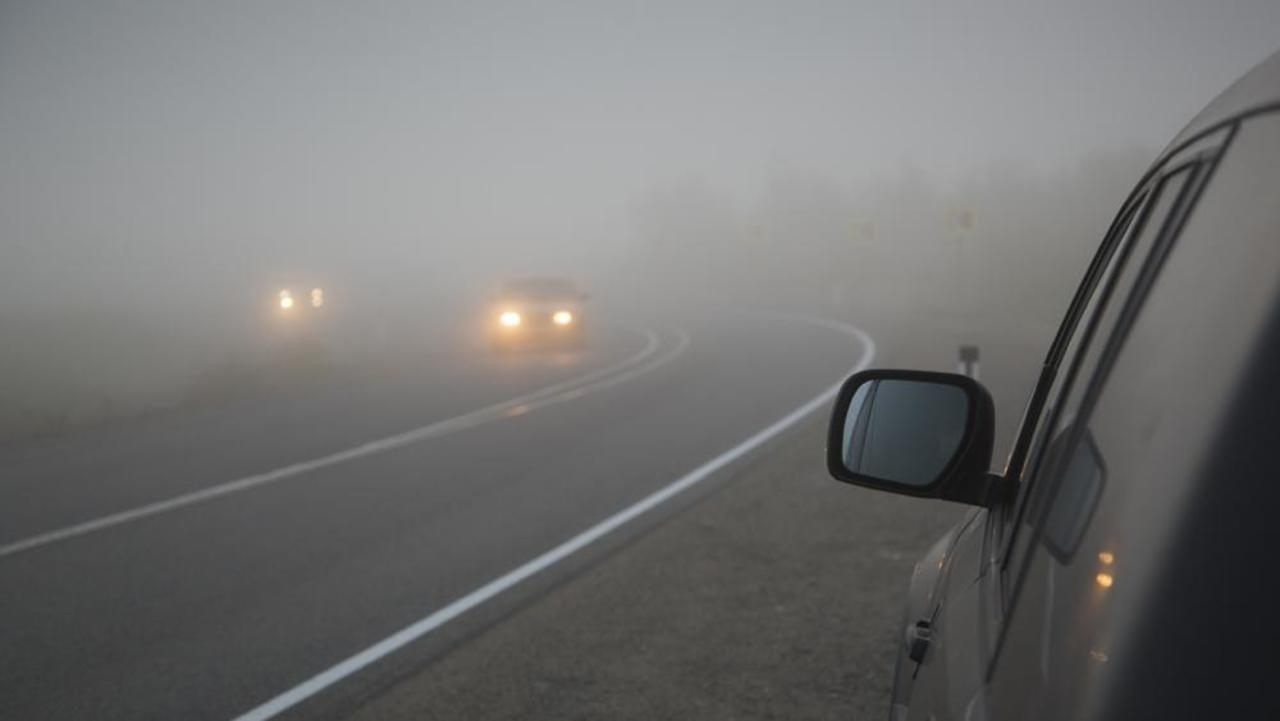car: (837, 40, 1279, 715), (485, 273, 587, 353), (271, 272, 326, 314)
